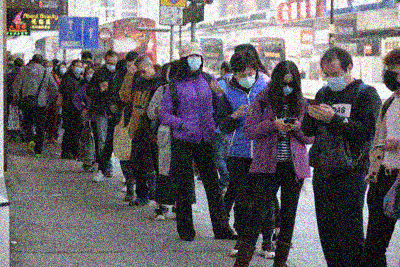with_mask: (323, 69, 348, 92), (384, 62, 400, 92), (237, 70, 256, 88), (279, 79, 297, 97), (188, 55, 203, 72), (106, 61, 117, 72), (74, 64, 83, 75), (85, 71, 94, 81), (59, 65, 67, 75), (44, 65, 54, 73)
without_mask: (137, 67, 152, 80)
